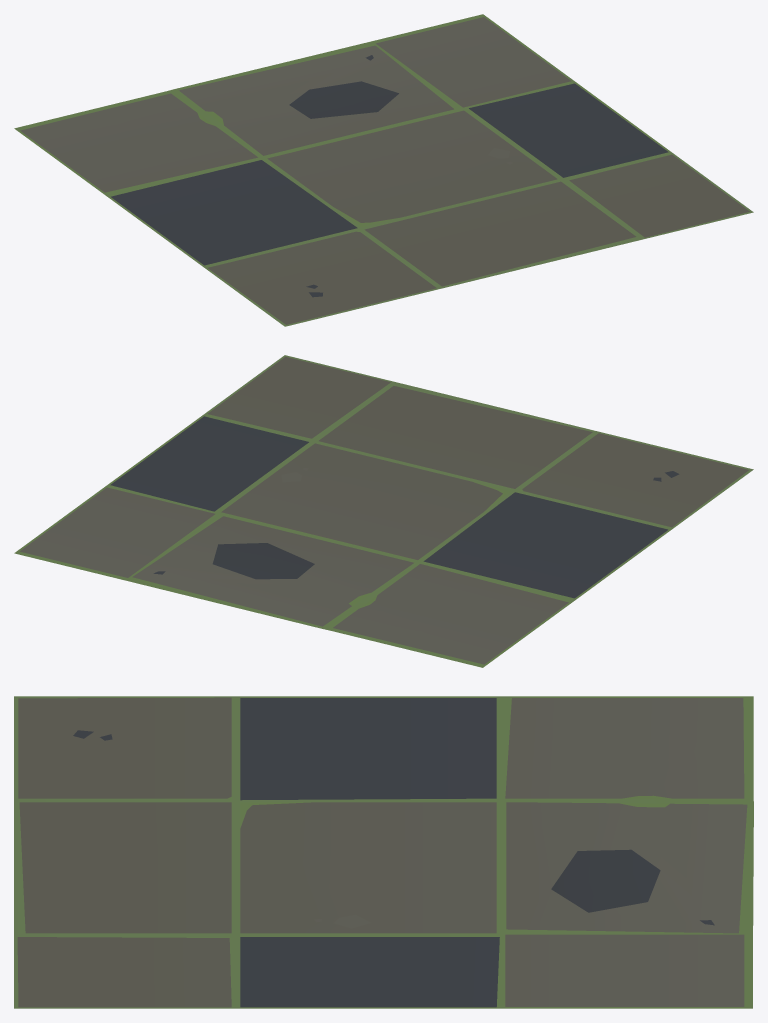
File: Tile_03.fbx
3 renders of one model, top to bottom at view 1: azimuth 30°, elevation 25°; view 2: azimuth 150°, elevation 25°; view 3: azimuth 270°, elevation 25°, orthographic. The views are drawn at different scales.
Parts seen in each view (by area): view 1: Tile_03; view 2: Tile_03; view 3: Tile_03.
Part boxes in pixels (x1,y1,x2,y2): Tile_03: [14, 14, 753, 326]; Tile_03: [14, 355, 753, 667]; Tile_03: [14, 696, 753, 1008].
Bounding box in the file's own units: 3 × 9.54e-07 × 3.01.
